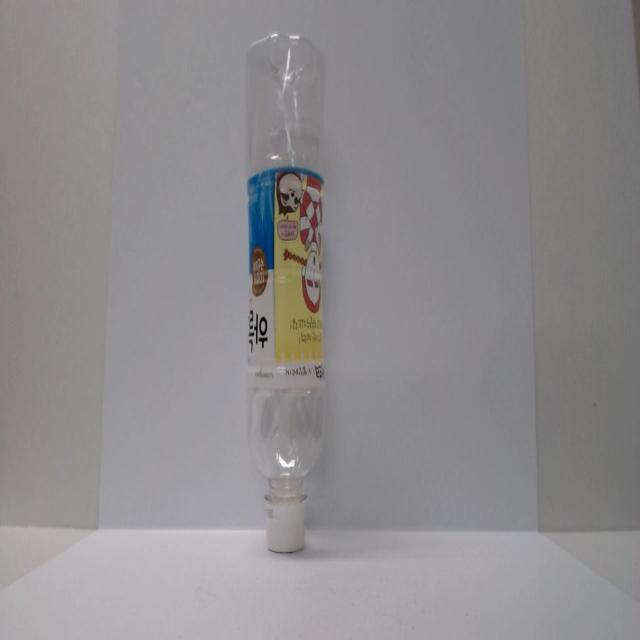bottle: (240, 18, 330, 567)
